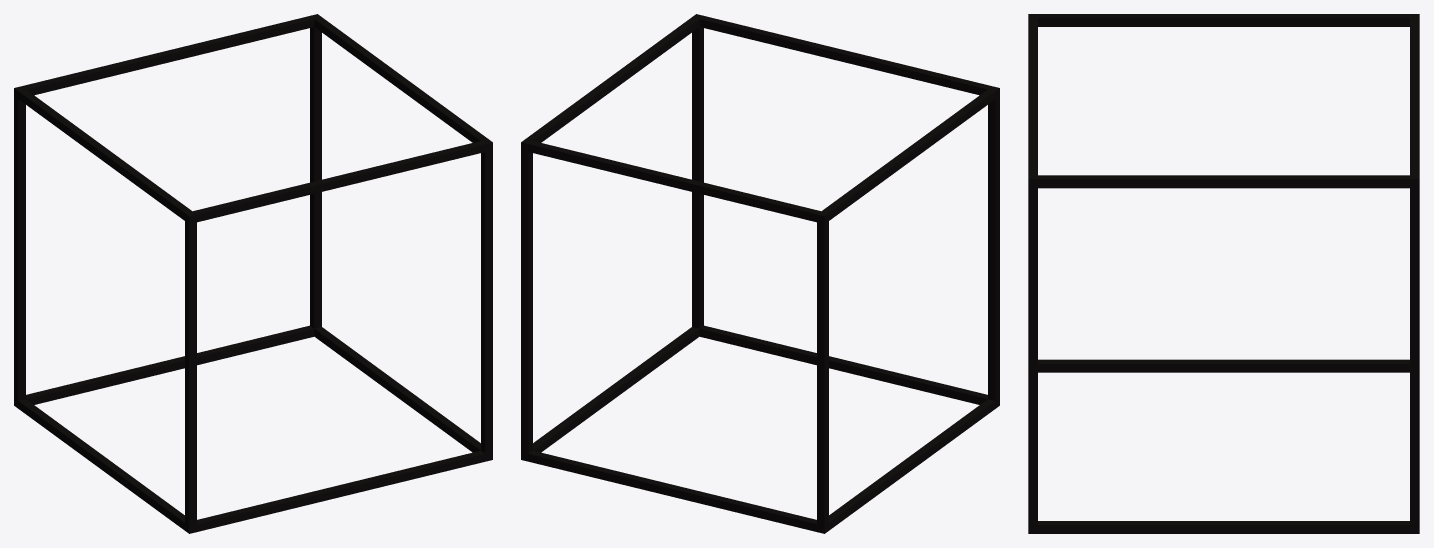
The model's file is ExplosionParticle.obj.
The picture shows the model from 3 angles, left to right: view 1: azimuth 30°, elevation 25°; view 2: azimuth 150°, elevation 25°; view 3: azimuth 270°, elevation 25°; orthographic projection. The views are drawn at different scales.
Visible parts, largest first — view 1: 立方体.001; view 2: 立方体.001; view 3: 立方体.001.
Part boxes in pixels (bbox=[...]): 立方体.001: bbox=[14, 14, 492, 533]; 立方体.001: bbox=[521, 14, 999, 533]; 立方体.001: bbox=[1028, 14, 1419, 533].
Size of the model in its own units: 2 by 2 by 2.
Materials: 1 (1 with a texture image).
